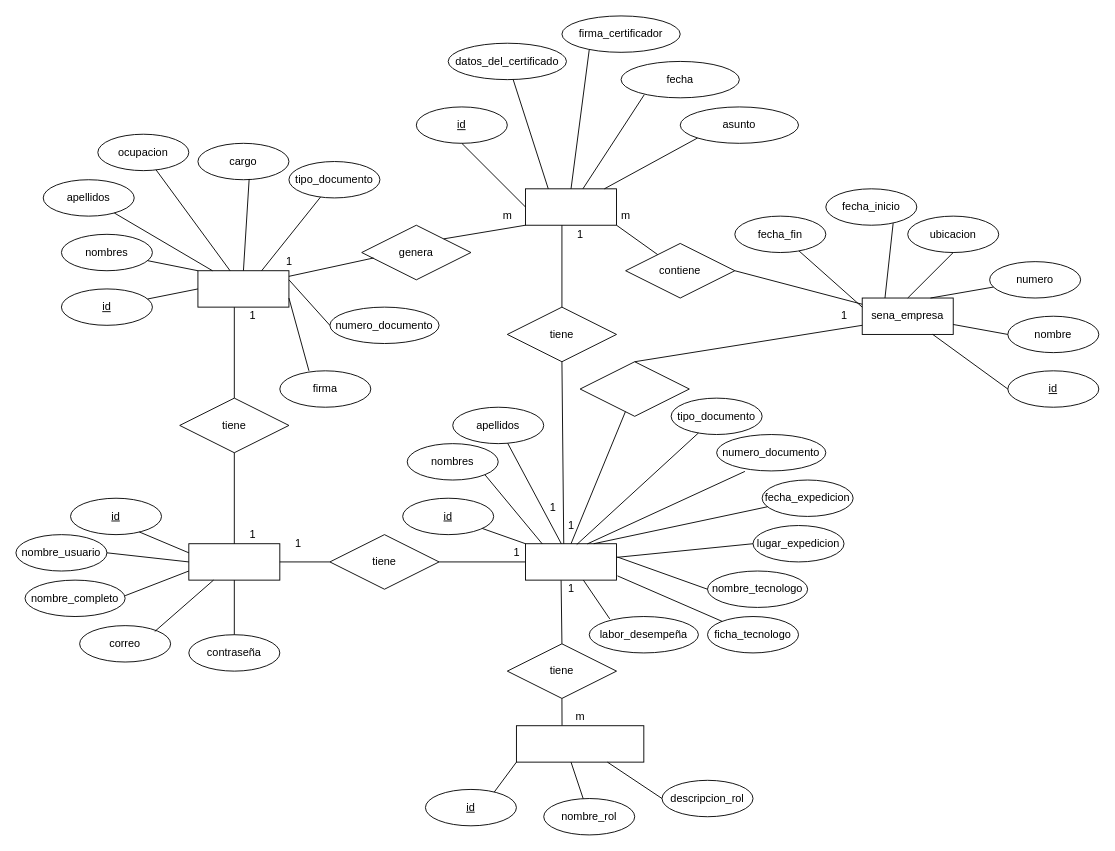
The diagram is 1115 pixels wide and 851 high, and some of its shapes have lost their labels. The centre of each missing label's shape, as x and y in pixels:
aprendiz: (x=571, y=561)
certificado: (x=571, y=206)
instructor: (x=243, y=288)
pertenece: (x=634, y=388)
roles_sena_empresa: (x=580, y=743)
usuario: (x=234, y=561)
